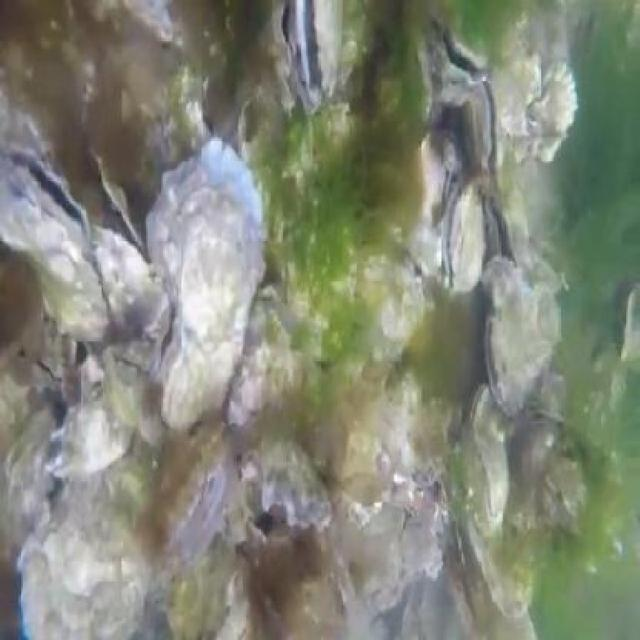Oyster-Closed: (146, 141, 267, 436), (484, 280, 560, 414), (469, 381, 510, 523), (441, 178, 487, 297), (461, 79, 500, 178), (8, 345, 71, 395), (216, 592, 251, 640)
Oyster-Indeterminate: (20, 455, 160, 640), (92, 228, 167, 341), (466, 512, 534, 617), (50, 393, 132, 478), (89, 149, 146, 250), (369, 258, 423, 362), (510, 420, 556, 528), (108, 353, 160, 443), (488, 57, 541, 137), (525, 60, 578, 134), (406, 223, 442, 276), (271, 0, 292, 74)
Oyster-Open: (0, 146, 106, 339), (242, 437, 334, 530), (288, 0, 343, 112), (167, 456, 225, 557), (430, 19, 491, 109), (485, 200, 518, 264)
